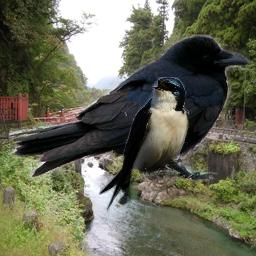Crow: (9, 34, 250, 182)
Swallow: (99, 77, 189, 212)
